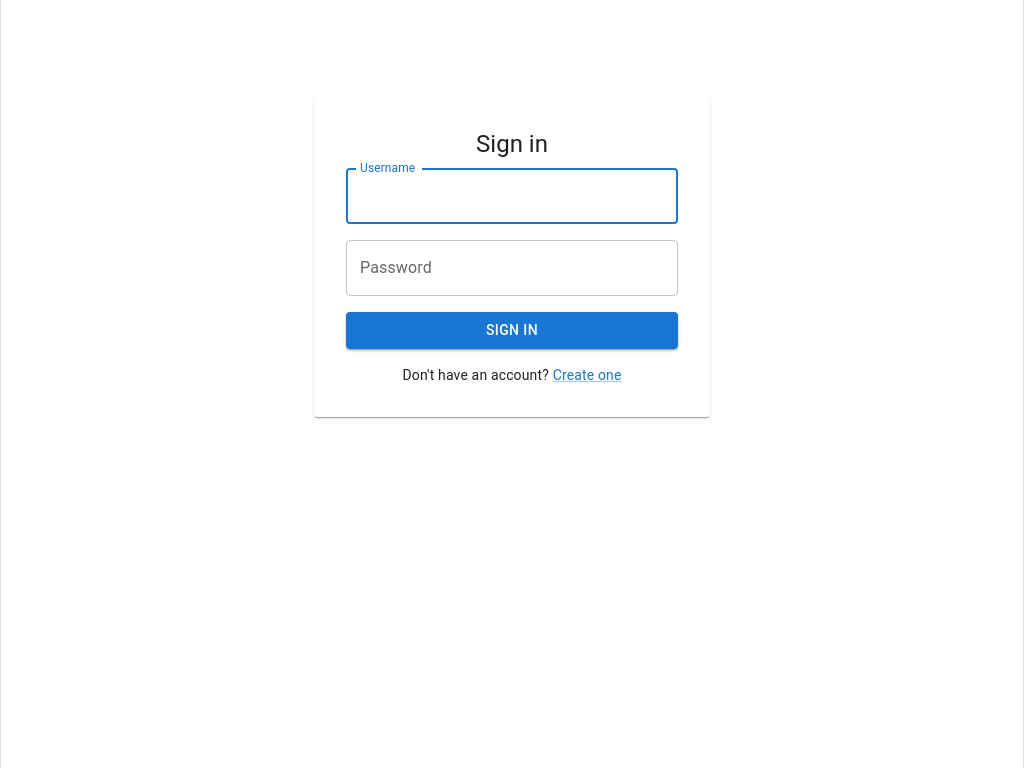
Scenario: LoginPage › shows validation errors when submitting empty fields
The width and height of the screenshot is (1024, 768).
Click the button "Sign in": x=512, y=331 left=346, top=312, right=678, bottom=349
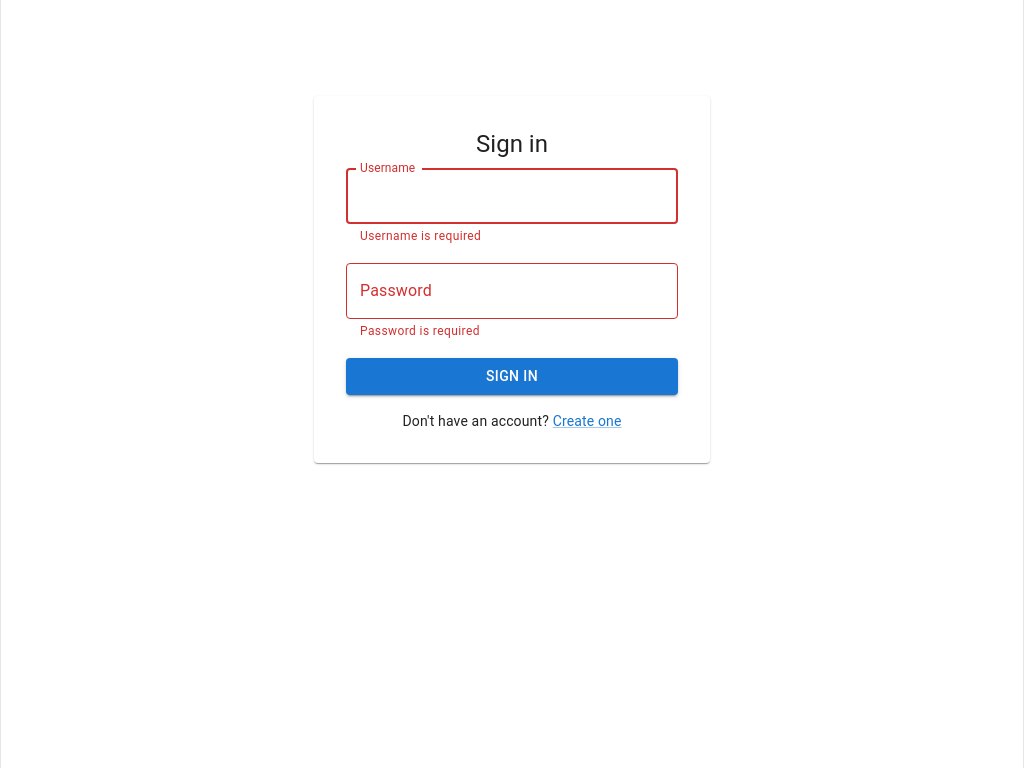
Result: the text "Username is required" is shown at left=360, top=229, right=481, bottom=243
Result: the text "Password is required" is shown at left=360, top=324, right=480, bottom=338
